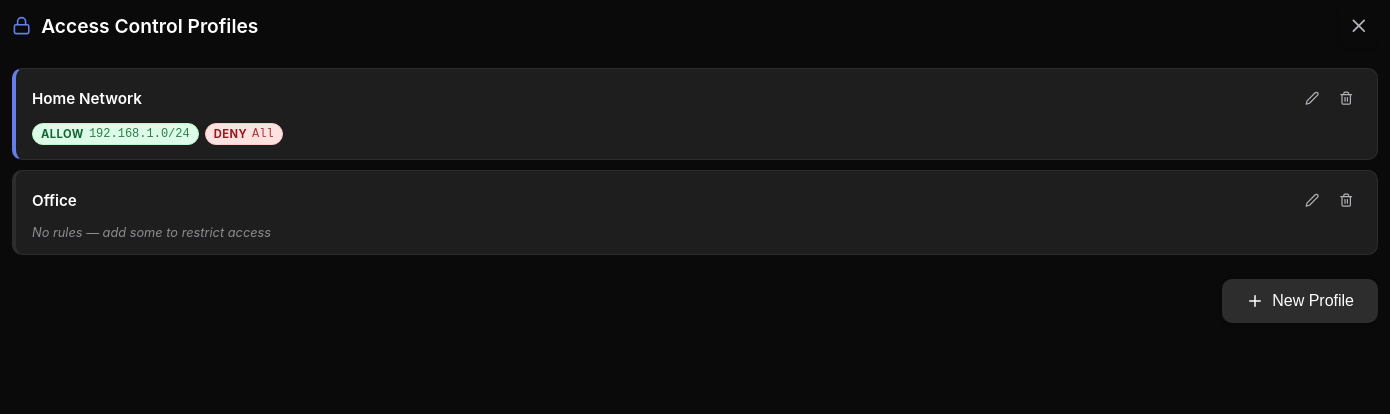
Test: AclManager — create flow › cancel button returns to profile list
Expected: the text "Home Network" is shown, [32,88,142,108]
Click the button "New Profile".
click(1300, 301)  # box [1222,279,1378,323]
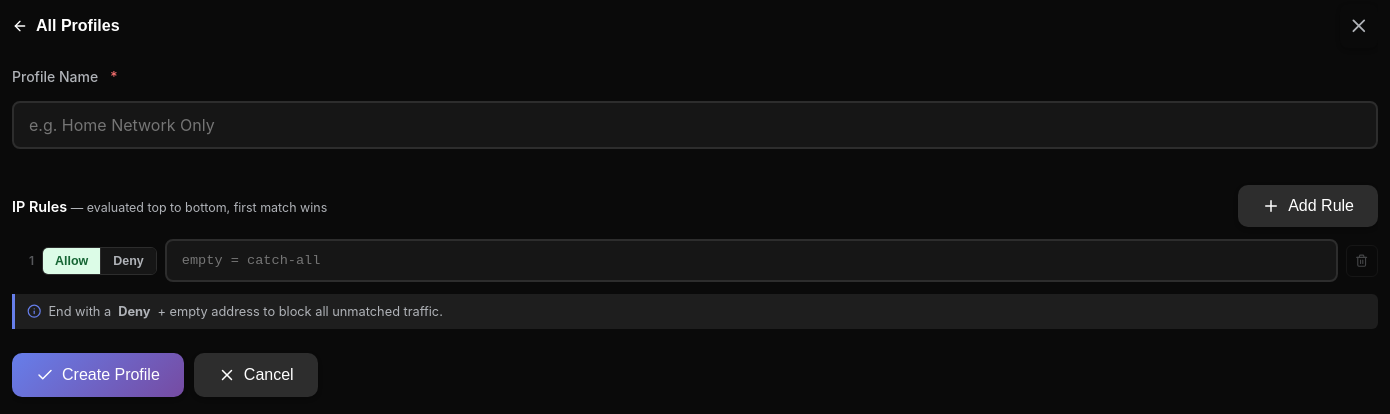
Click the button "Cancel".
click(256, 375)  # box [194,353,318,397]
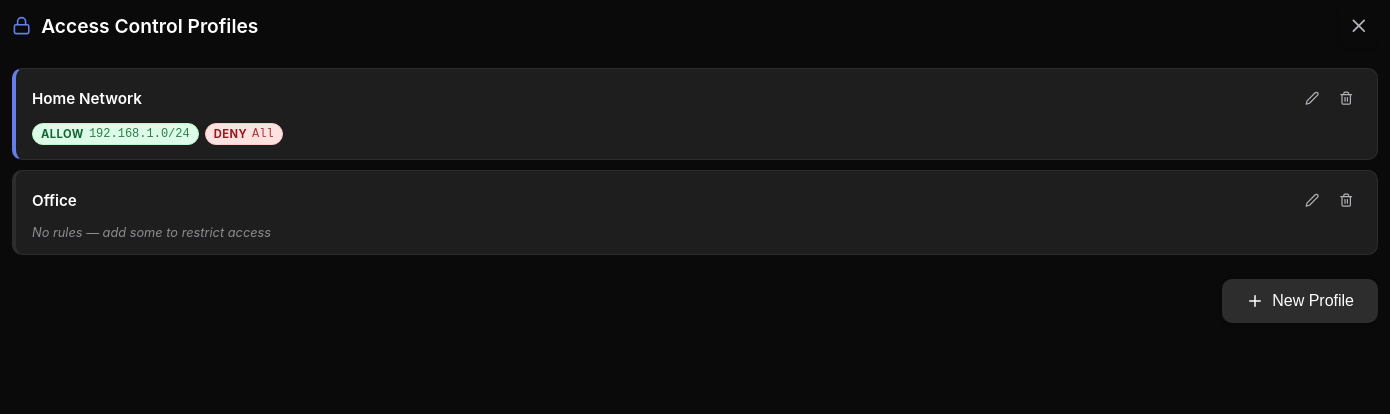
Expected: the text "Home Network" is shown, [32,88,142,108]
